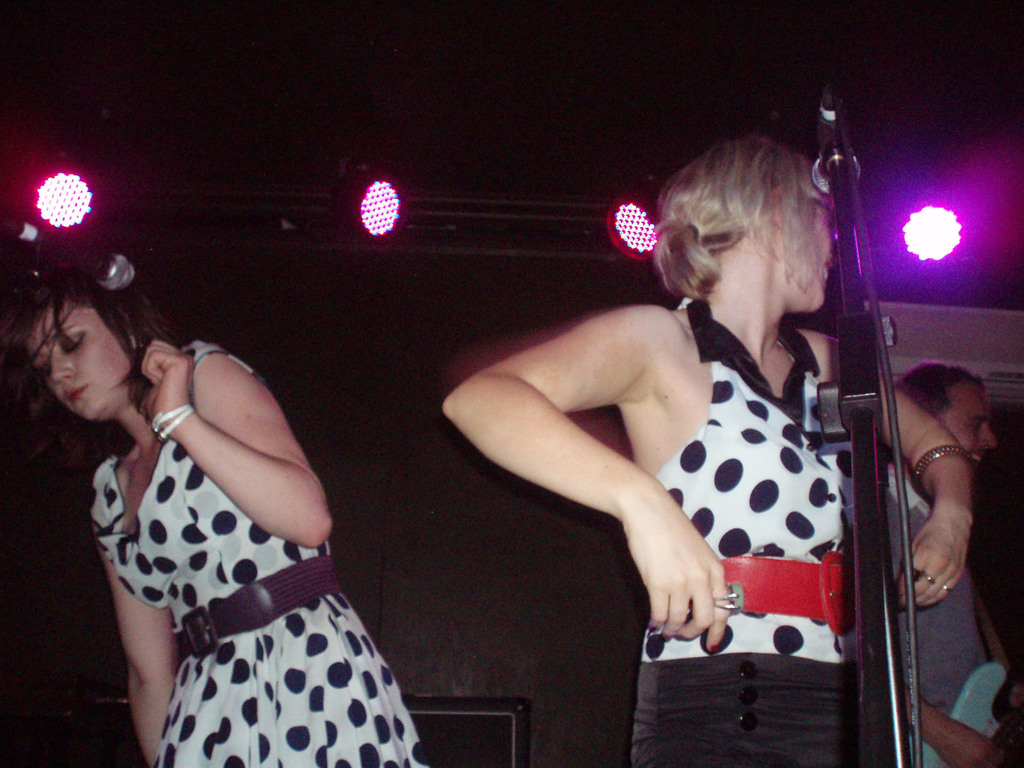Human_hand: (630, 495, 743, 663), (897, 511, 974, 611), (137, 339, 196, 442), (941, 725, 1002, 767)
